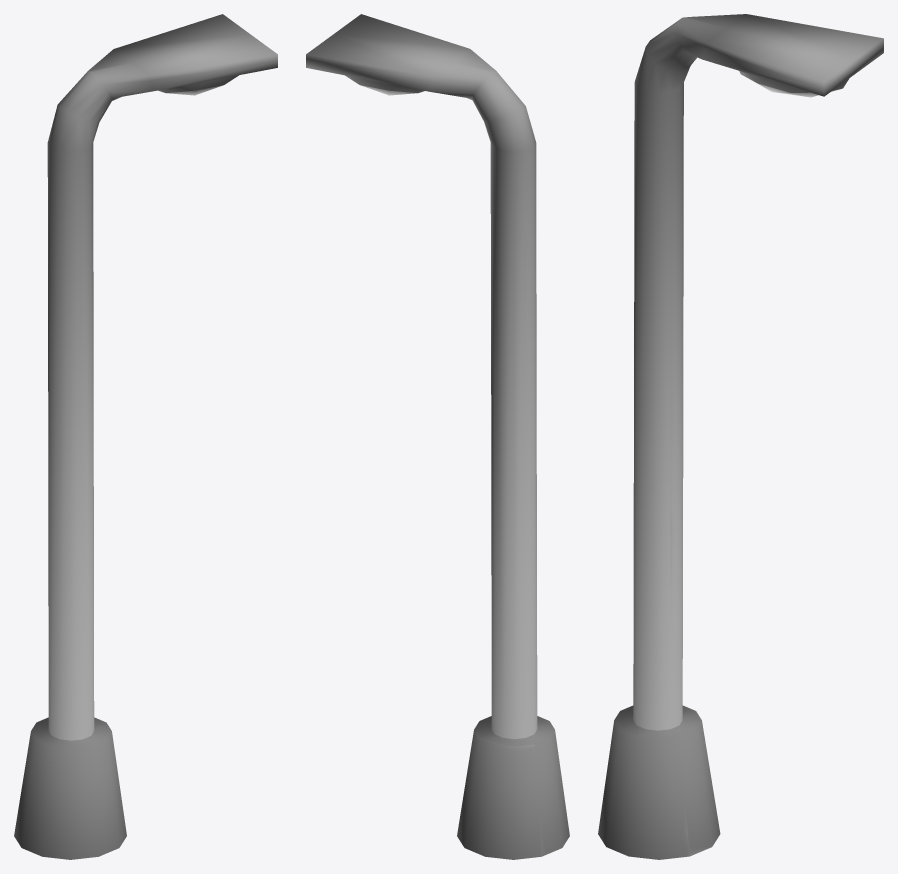
File: Lampara.obj
3 views of the same model, side by side, from view 1: azimuth 30°, elevation 25°; view 2: azimuth 150°, elevation 25°; view 3: azimuth 330°, elevation 25° (orthographic). The views are drawn at different scales.
Visible parts, largest first — view 1: Cylinder; view 2: Cylinder; view 3: Cylinder.
Part boxes in pixels (bbox=[...]): Cylinder: bbox=[14, 14, 277, 859]; Cylinder: bbox=[306, 14, 569, 859]; Cylinder: bbox=[598, 14, 883, 859].
Bounding box in the file's own units: 6.52 × 20.68 × 2.79.
Materials: 1 (1 with a texture image).
